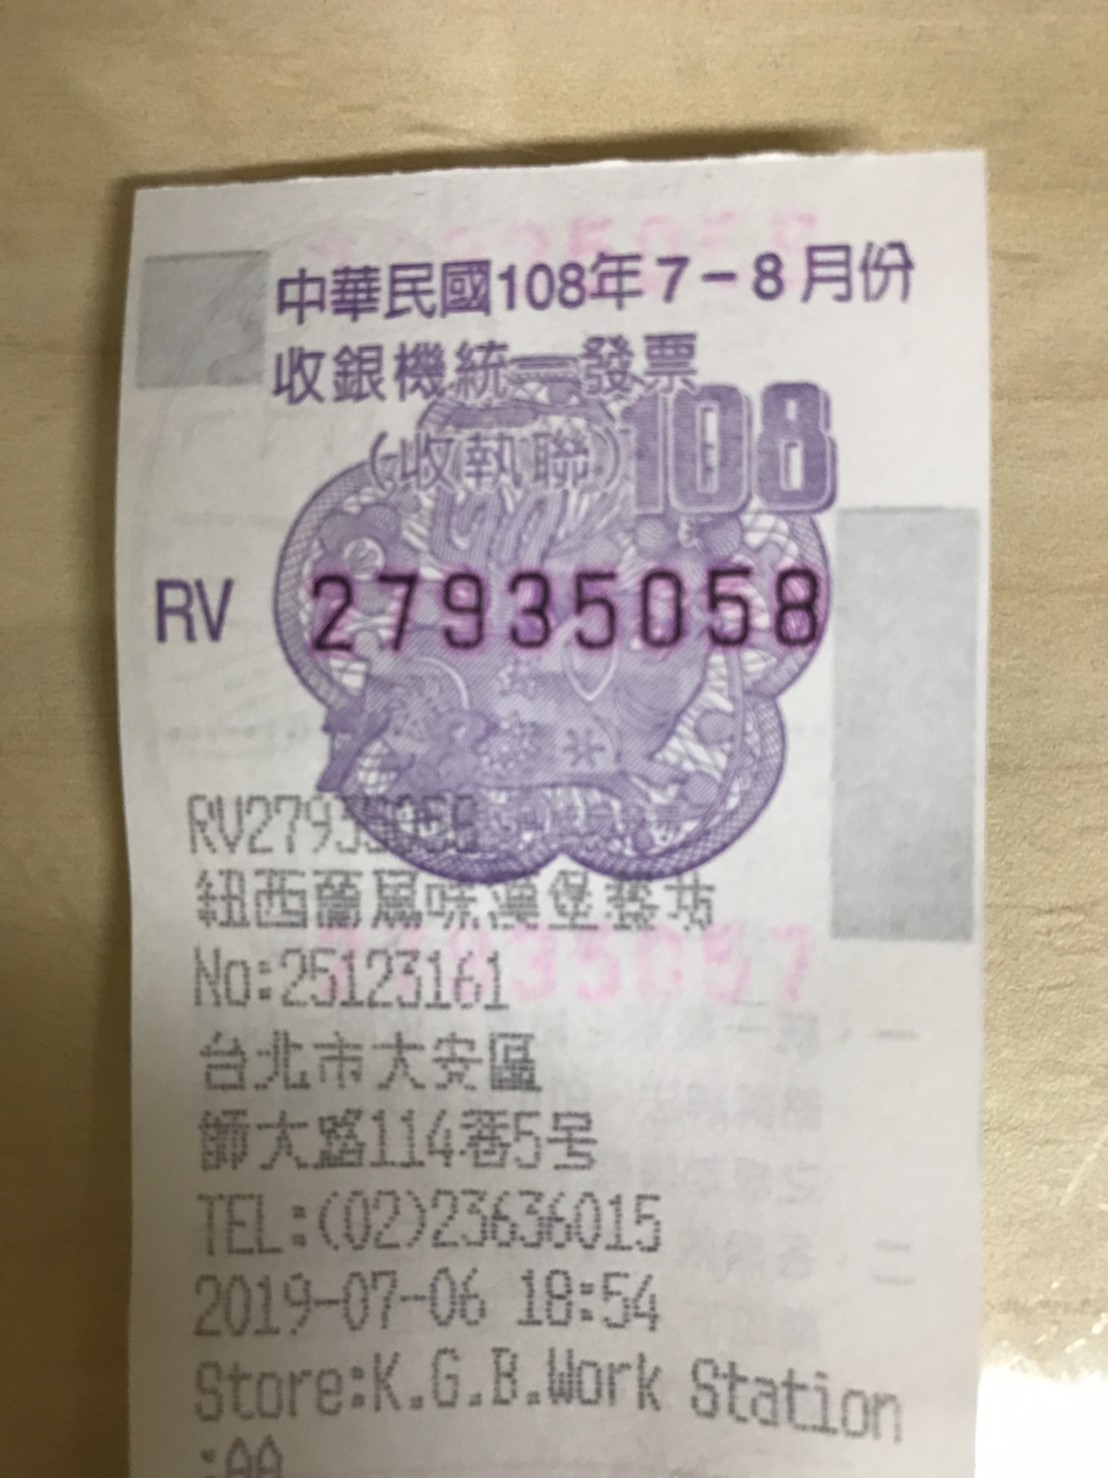Date_Old: (498, 236, 922, 312)
Number_Old: (306, 556, 823, 655)
